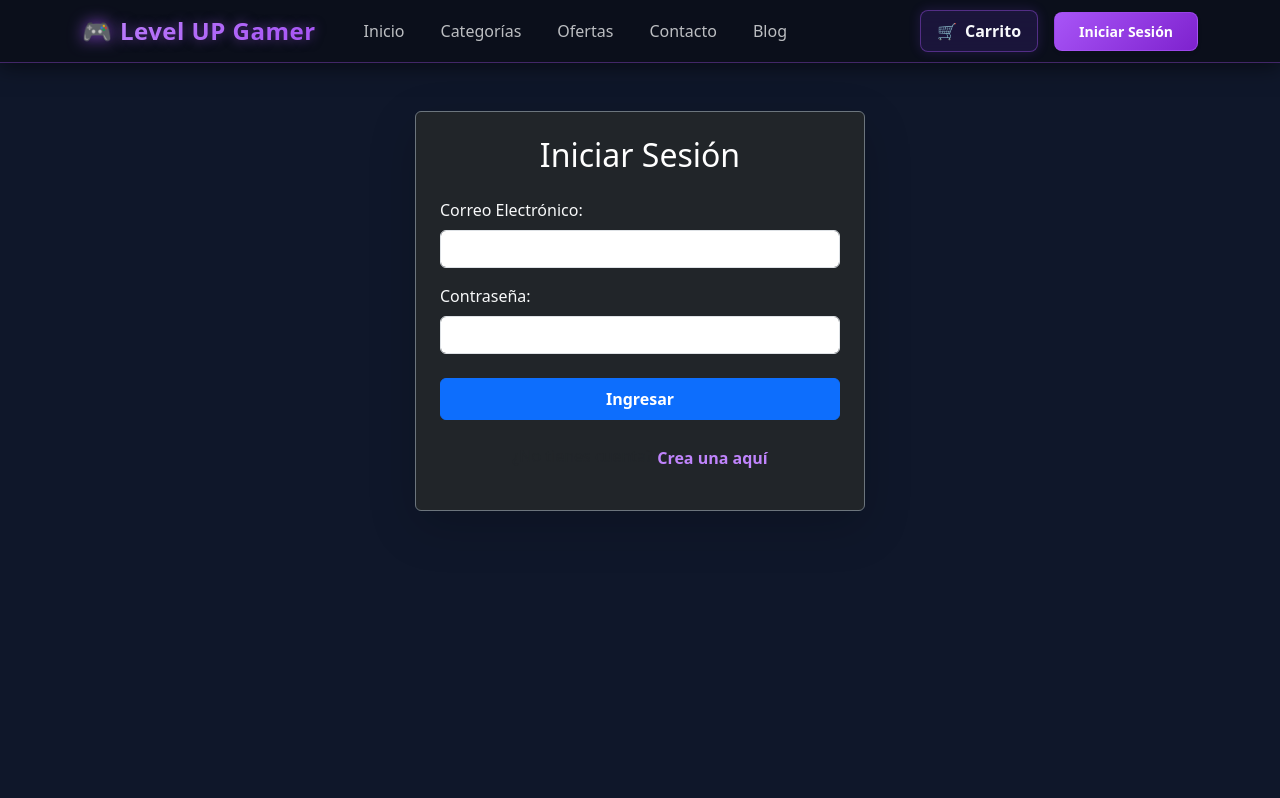
Test case: Pruebas Funcionales App.jsx - Requerimientos de Sistema › Req 2: Solicitud de fecha de nacimiento y validación de mayoría de edad (>= 18 años) › 2.1 solicita la fecha de nacimiento en el formulario de registro
What coordinates should you click on to do the following:
click the button "Crea una aquí"
I would click on:
 (713, 458)
Its box is x1=657 y1=446 x2=768 y2=470.
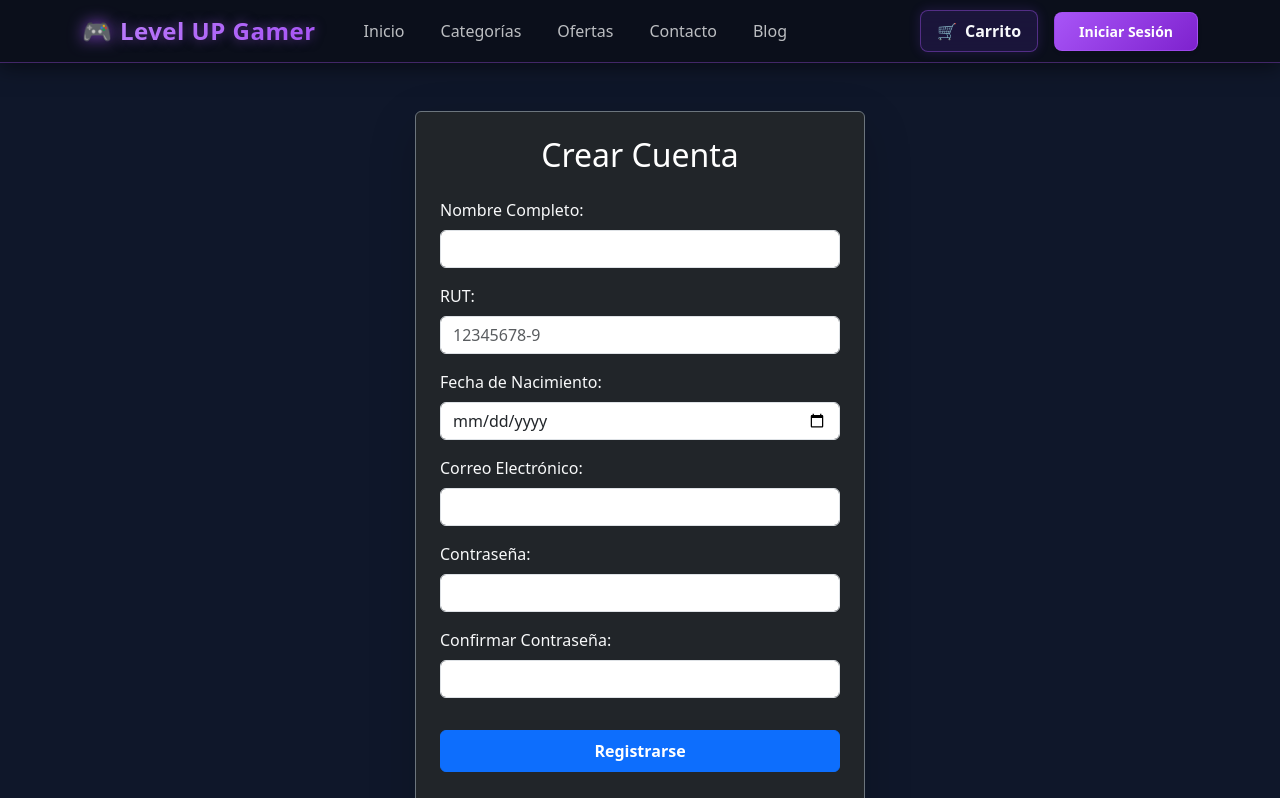
expect the date field named "fechaNacimiento" is shown: met, box x1=440 y1=402 x2=840 y2=440
expect the text "Fecha de Nacimiento:" is shown: met, box x1=440 y1=370 x2=602 y2=394
